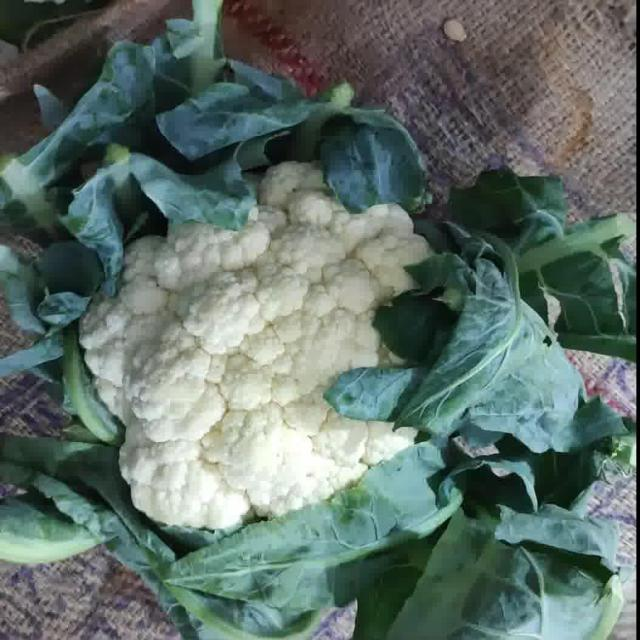Cauliflower: (69, 151, 488, 537)
